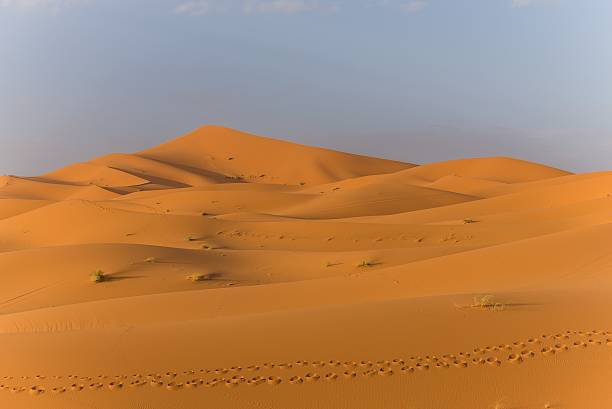animal_foot_print: (0, 330, 611, 395)
